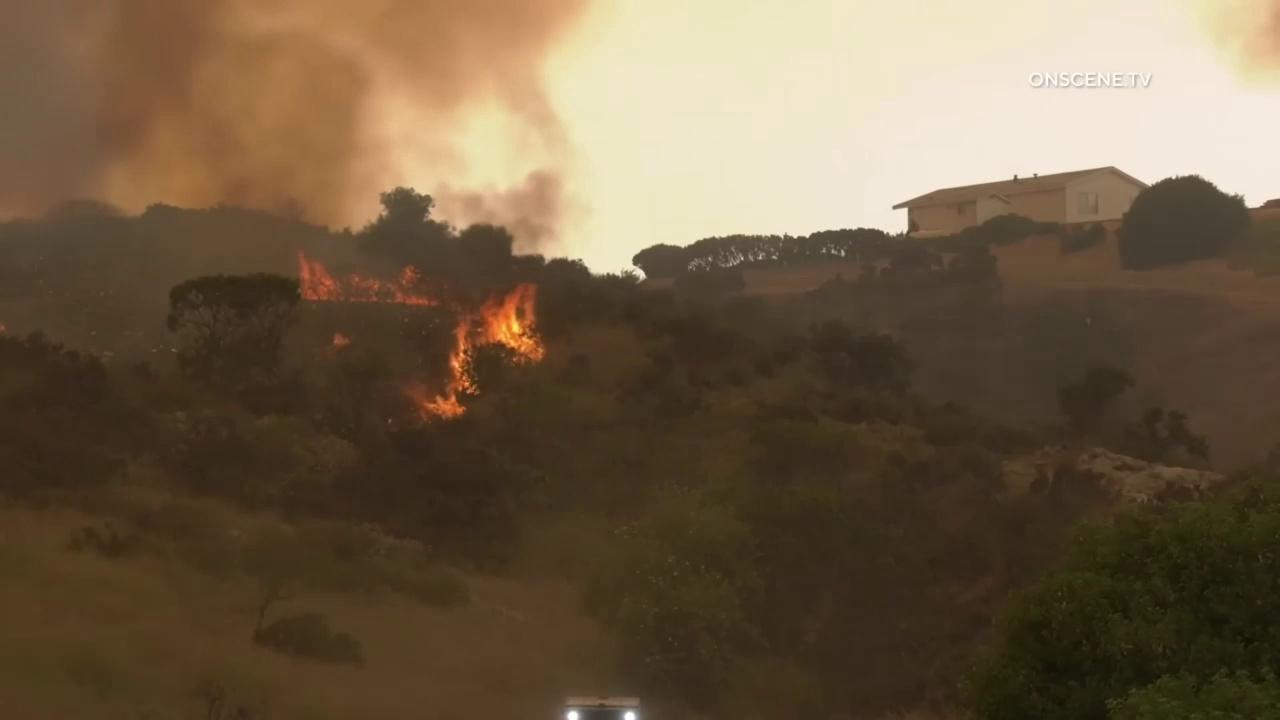fire: (418, 282, 546, 425), (297, 247, 439, 306), (333, 331, 352, 346), (0, 322, 7, 333)
smoke: (0, 0, 619, 444), (1208, 0, 1280, 87)
